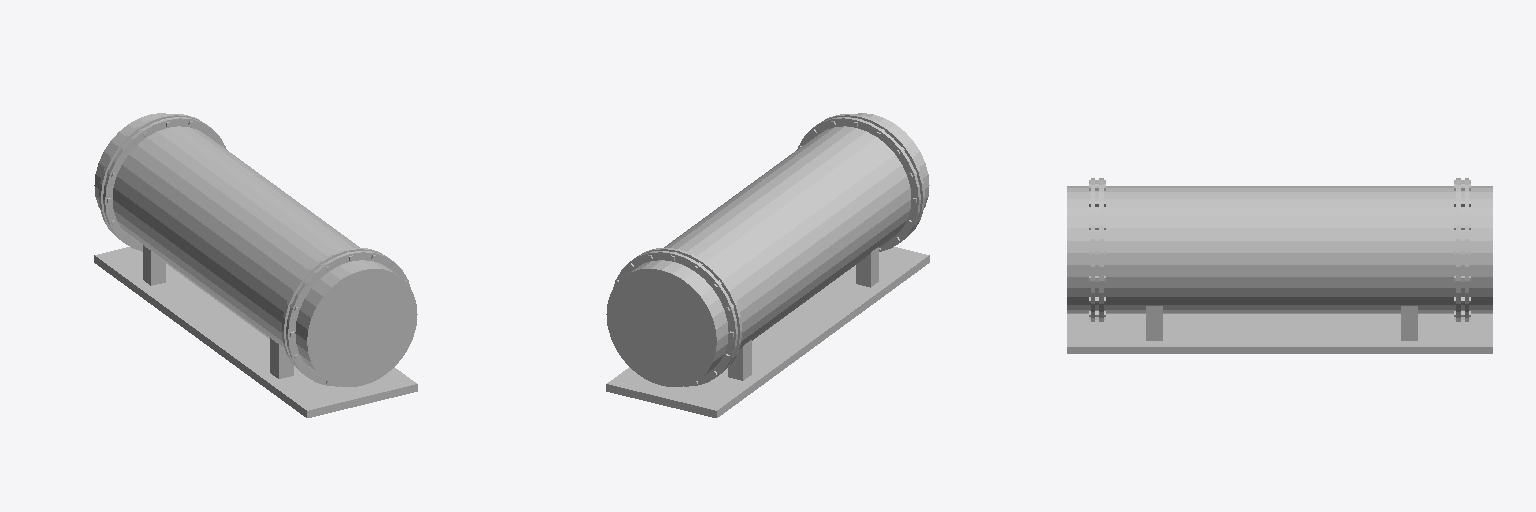
The model's file is condenser.obj.
3 views of the same model, side by side, from view 1: azimuth 30°, elevation 25°; view 2: azimuth 150°, elevation 25°; view 3: azimuth 270°, elevation 25° (orthographic).
Parts seen in each view (by area): view 1: Cylinder, Cube.002, Cylinder.004, Cylinder.002, Cylinder.001, Cylinder.003, Cube.003, Cube.004; view 2: Cylinder, Cube.002, Cylinder.001, Cylinder.003, Cylinder.004, Cylinder.002, Cube.004, Cube.003; view 3: Cylinder, Cube.002, Cylinder.002, Cylinder.003, Cube.005, Cube.006, Cylinder.001, Cylinder.004.
Part boxes in pixels (x1,y1,x2,y2): Cylinder: (94, 113, 417, 386); Cube.002: (94, 247, 417, 417); Cylinder.004: (286, 251, 410, 386); Cylinder.002: (103, 117, 226, 251); Cylinder.001: (99, 114, 206, 239); Cylinder.003: (282, 248, 389, 373); Cube.003: (143, 245, 165, 285); Cube.004: (270, 338, 293, 378); Cylinder: (606, 113, 929, 386); Cube.002: (606, 247, 929, 417); Cylinder.001: (613, 251, 737, 386); Cylinder.003: (797, 117, 920, 251); Cylinder.004: (817, 114, 924, 239); Cylinder.002: (634, 248, 741, 373); Cube.004: (856, 247, 878, 287); Cube.003: (728, 340, 751, 380); Cylinder: (1067, 186, 1492, 313); Cube.002: (1067, 314, 1492, 353); Cylinder.002: (1456, 178, 1460, 321); Cylinder.003: (1099, 178, 1103, 321); Cube.005: (1146, 306, 1162, 340); Cube.006: (1401, 306, 1417, 340); Cylinder.001: (1465, 178, 1468, 321); Cylinder.004: (1091, 178, 1094, 321).
Size of the model in its own units: 3.4 by 3.7 by 10.